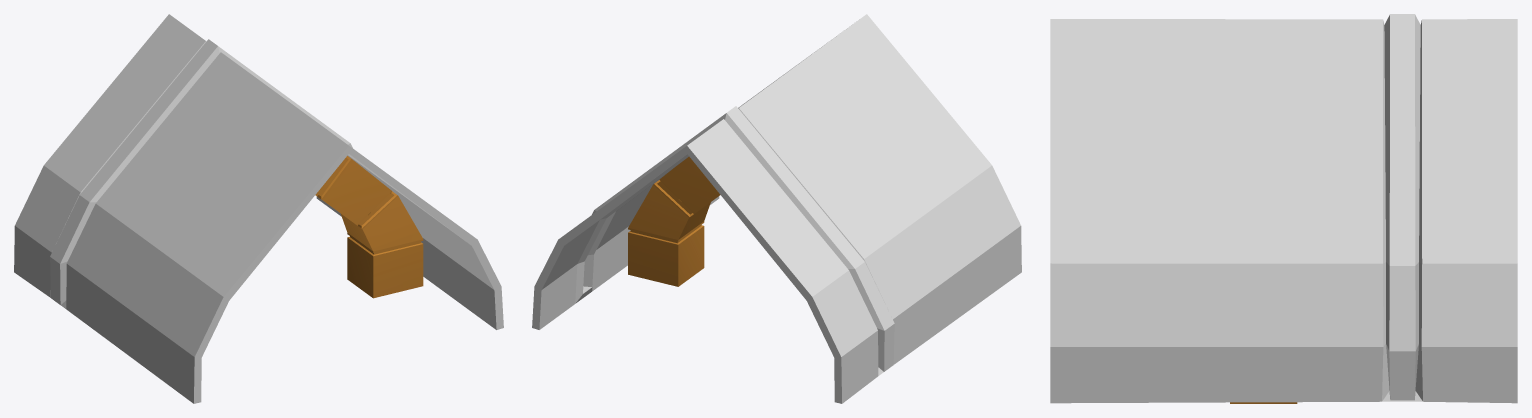
File: InsideTempleroof.fbx
3 views of the same model, side by side, from view 1: azimuth 30°, elevation 25°; view 2: azimuth 150°, elevation 25°; view 3: azimuth 270°, elevation 25° (orthographic). The views are drawn at different scales.
Parts seen in each view (by area): view 1: Plane, Cube.007; view 2: Plane, Cube.007; view 3: Plane.
Boxes of the visible parts, x1=… form: Plane: x1=14, y1=14, x2=503, y2=403; Cube.007: x1=315, y1=156, x2=423, y2=298; Plane: x1=532, y1=14, x2=1021, y2=403; Cube.007: x1=628, y1=156, x2=720, y2=286; Plane: x1=1050, y1=14, x2=1517, y2=403.
Bounding box in the file's own units: 1723 × 1201 × 1701.
